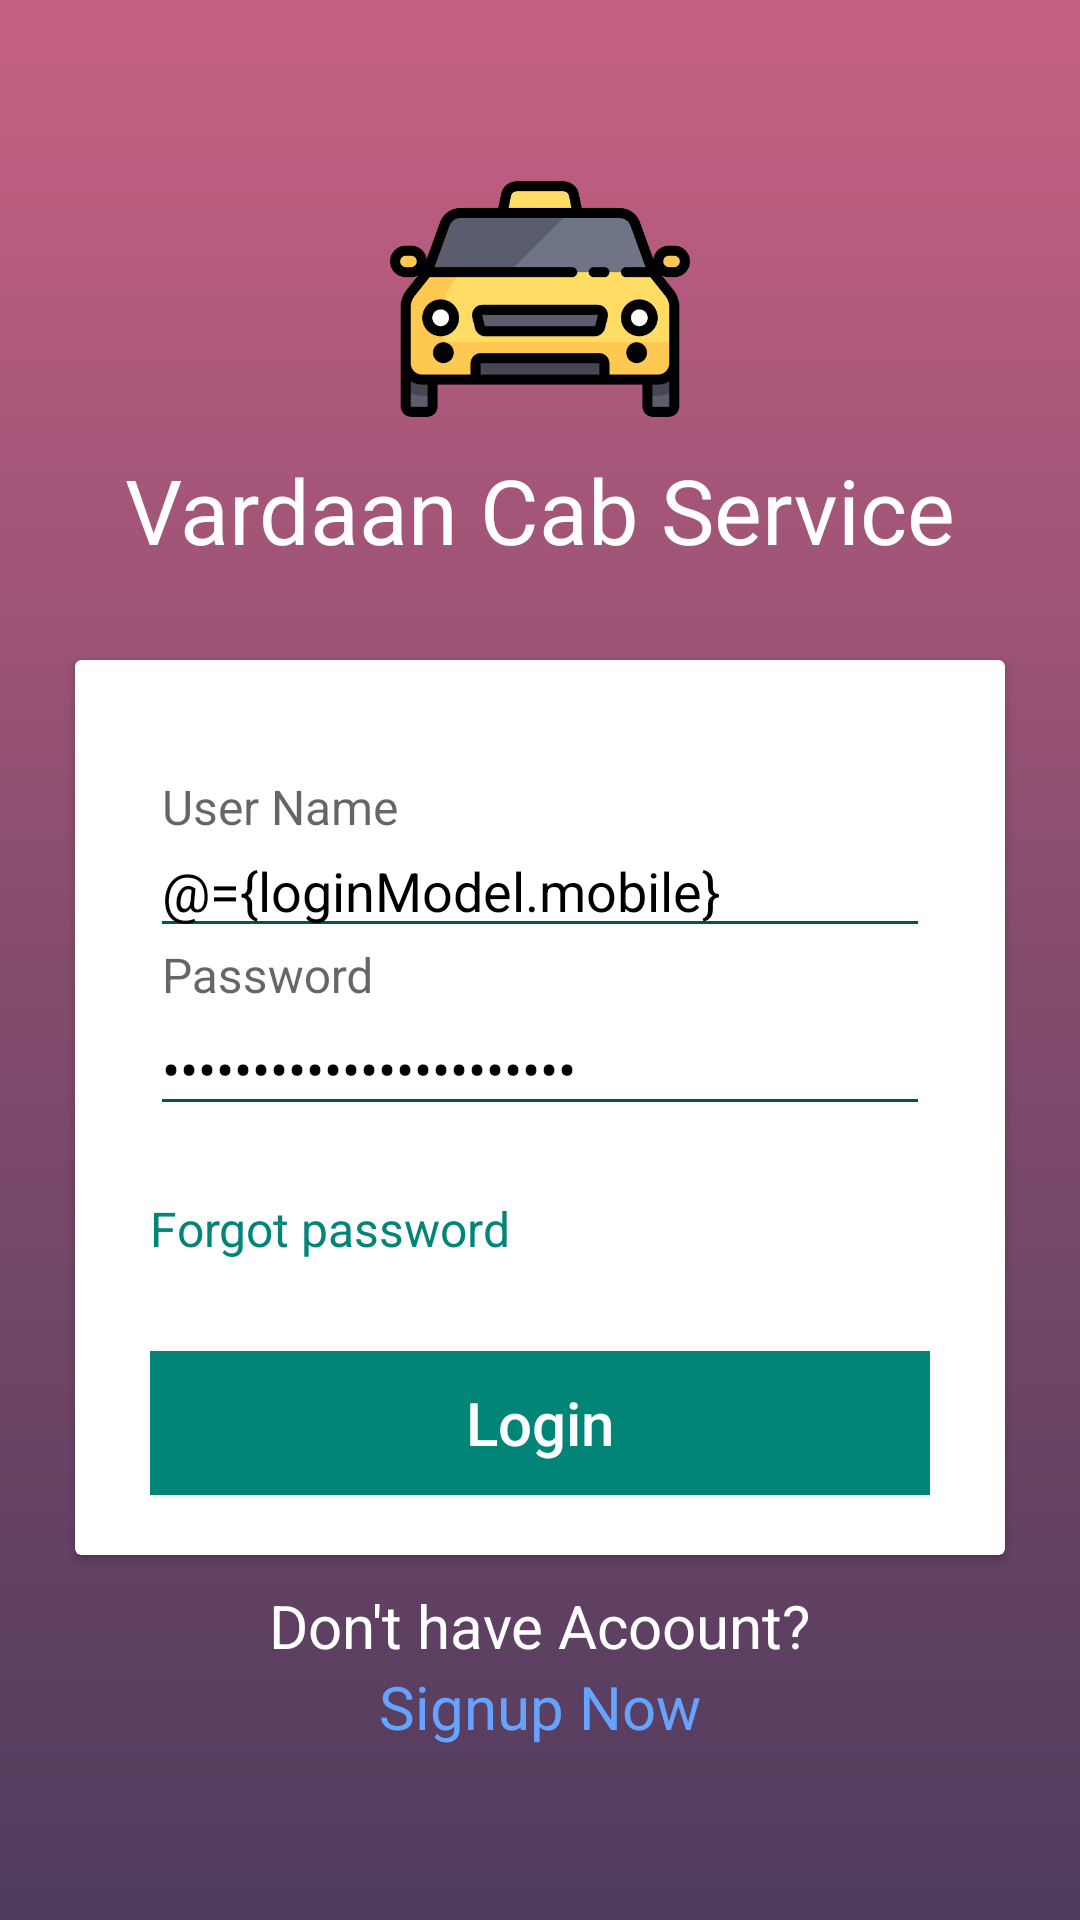

Icon bounding boxes for this 1080 × 1920 phone screenshot, format [x1,y1,x2,y2]:
taxi: [390,181,690,417]
